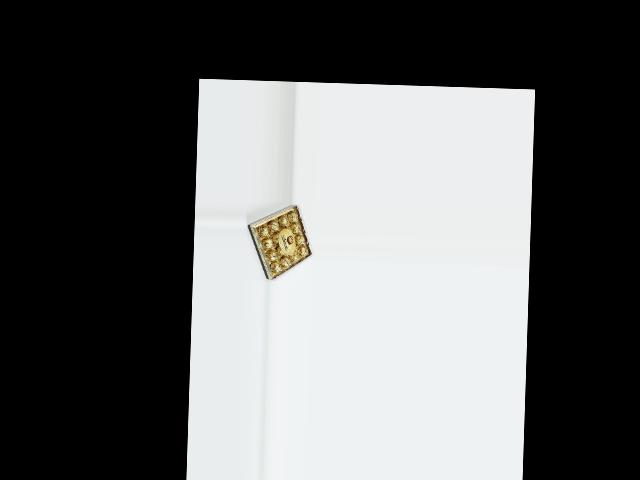chocolate: (244, 202, 315, 282)
